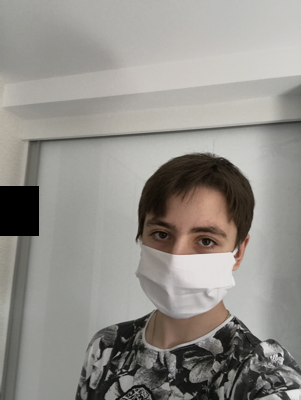with_mask: (135, 213, 239, 319)
